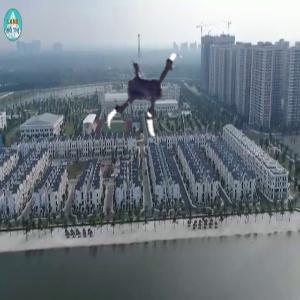drone: (97, 47, 203, 153)
